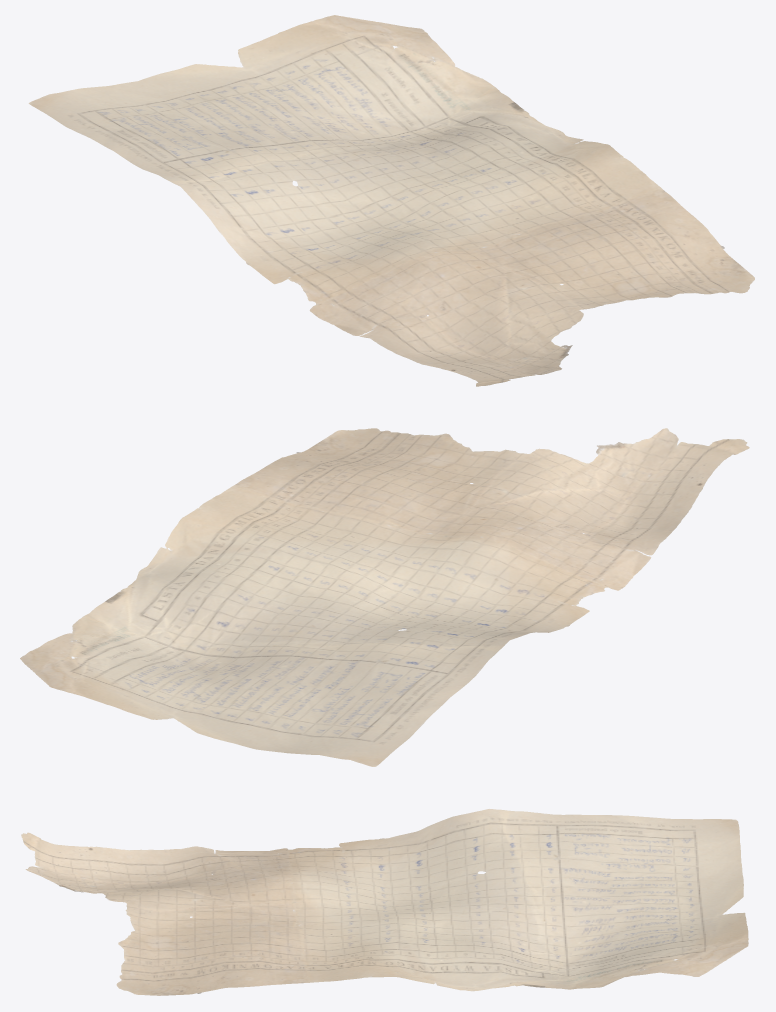
The model's file is SM_Paper_014.fbx.
3 renders of one model, top to bottom at view 1: azimuth 30°, elevation 25°; view 2: azimuth 150°, elevation 25°; view 3: azimuth 270°, elevation 25°, orthographic. The views are drawn at different scales.
Parts seen in each view (by area): view 1: SM_Paper_014; view 2: SM_Paper_014; view 3: SM_Paper_014.
Boxes of the visible parts, x1,y1,x2,y2 form: SM_Paper_014: (28, 15, 754, 386); SM_Paper_014: (20, 428, 749, 766); SM_Paper_014: (21, 809, 748, 995).
Size of the model in its own units: 42.38 by 79.81 by 4.77.
1 material, 1 textured.
